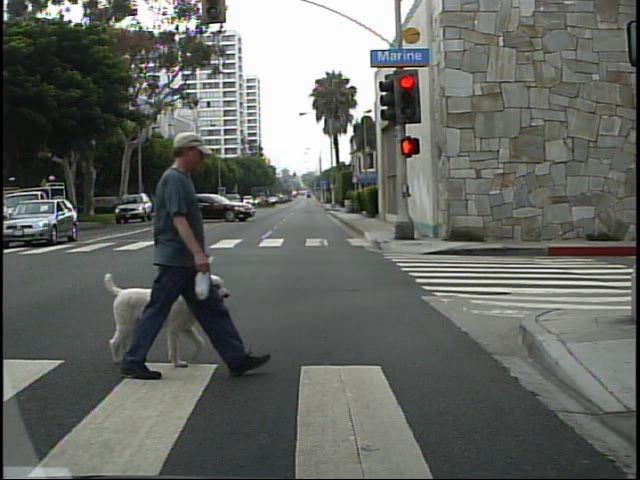person: (119, 117, 233, 384)
